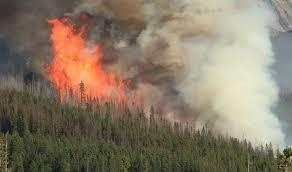fire: (45, 13, 136, 100)
